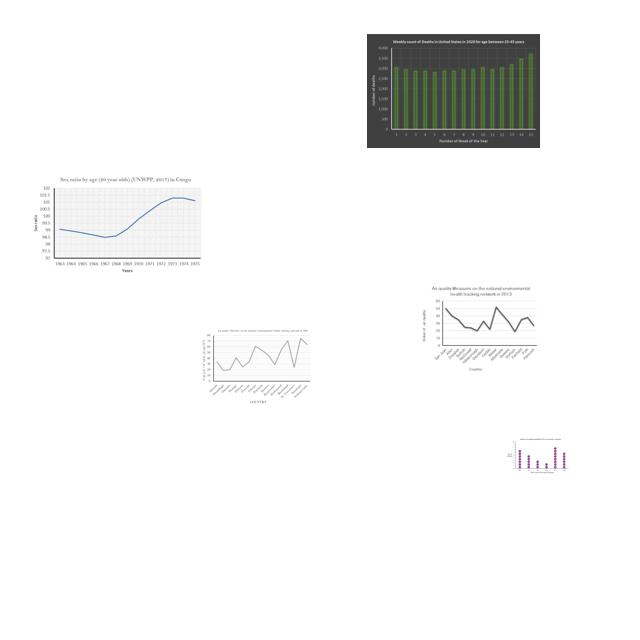Graph: (367, 34, 540, 148), (29, 174, 204, 276), (420, 285, 542, 373), (200, 327, 313, 407), (505, 437, 570, 475)
